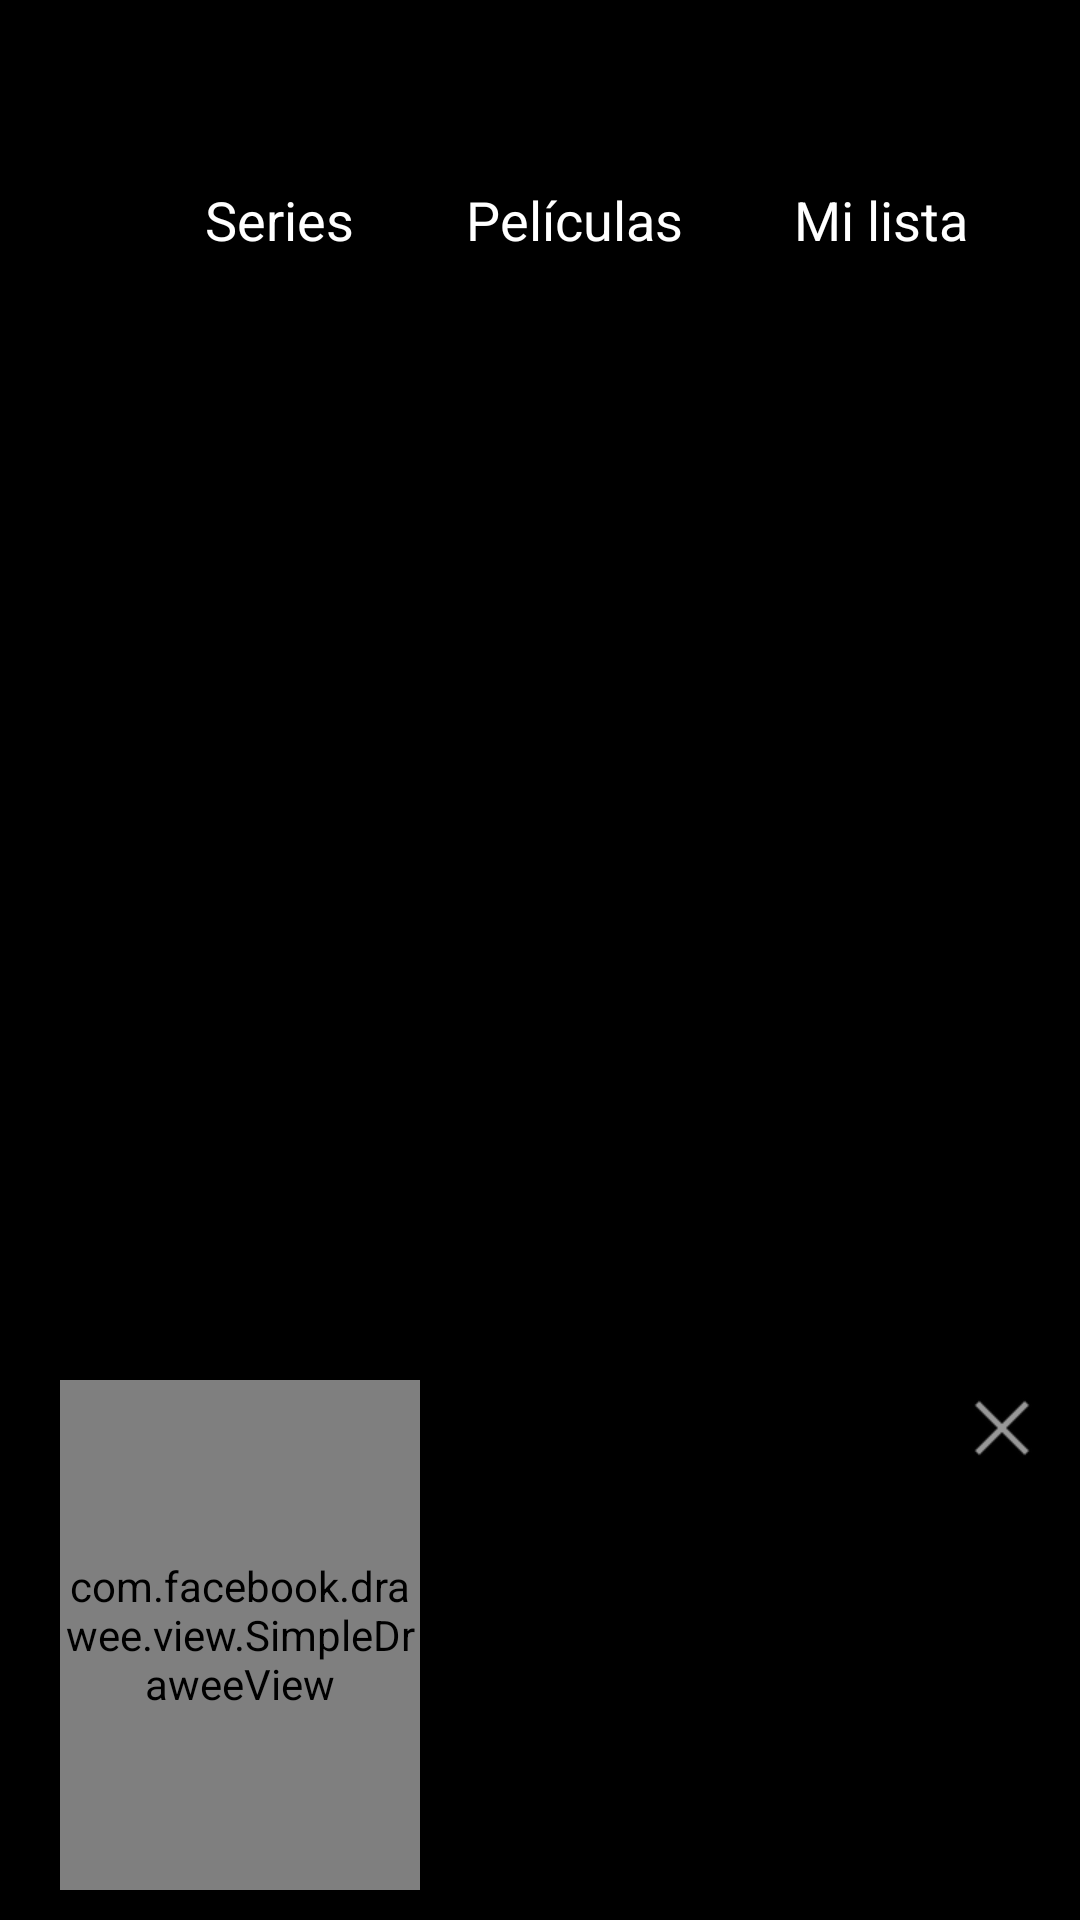

Point at icon controls on the screen. Image size 1080px×1920px, points as (x,y).
close clear cancel: (1002,1428)
